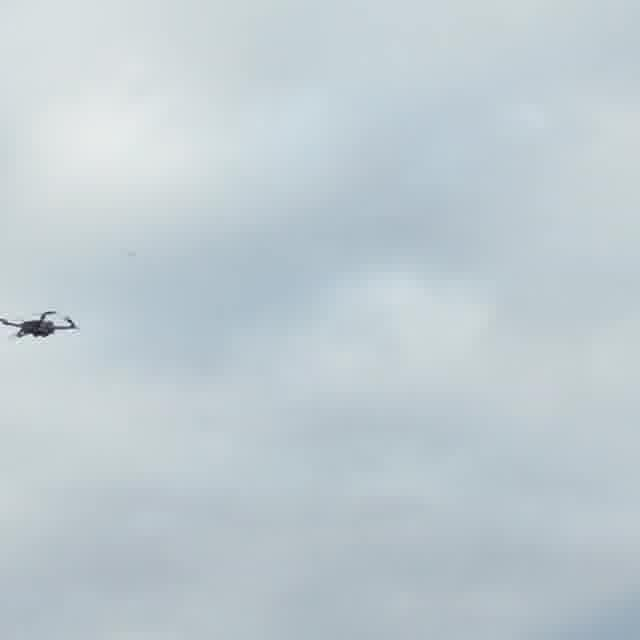Drohne: (0, 310, 77, 337)
